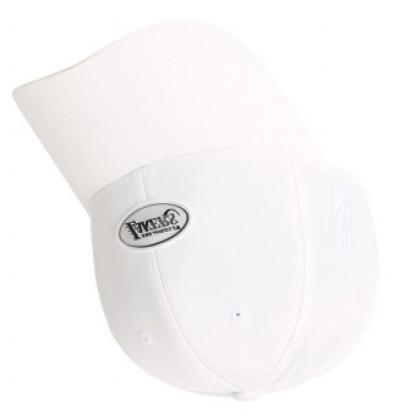cap: (3, 14, 396, 410)
